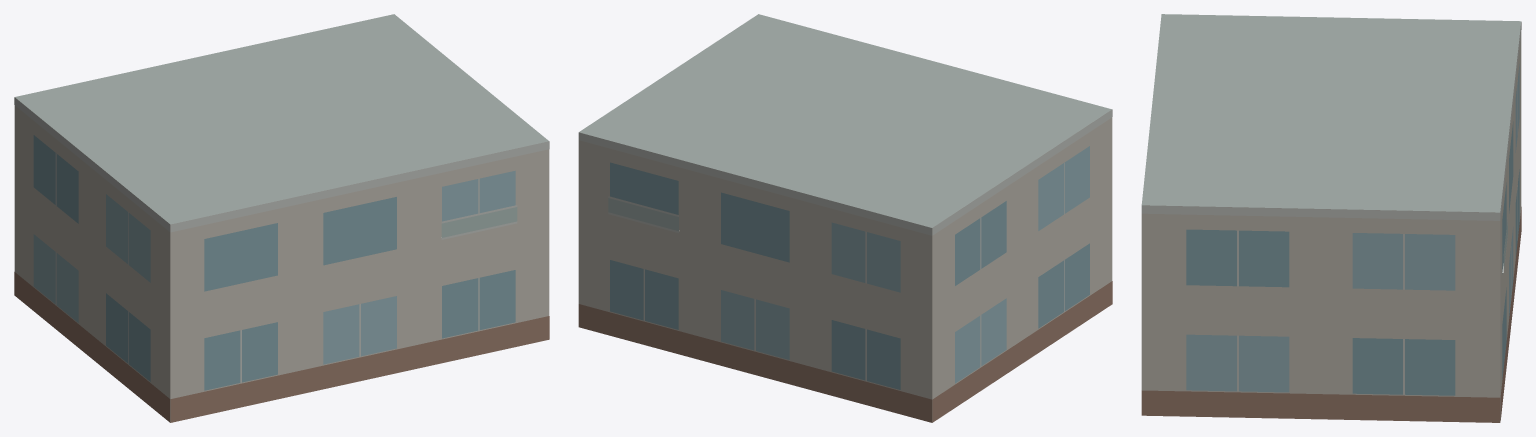
File: survey-upis-32972911.glb
3 views of the same model, side by side, from view 1: azimuth 30°, elevation 25°; view 2: azimuth 150°, elevation 25°; view 3: azimuth 270°, elevation 25° (orthographic). The views are drawn at different scales.
Visible parts, largest first — view 1: survey-upis-32972911.tmp; view 2: survey-upis-32972911.tmp; view 3: survey-upis-32972911.tmp.
Part boxes in pixels (x1,y1,x2,y2): survey-upis-32972911.tmp: [14, 14, 549, 422]; survey-upis-32972911.tmp: [578, 14, 1112, 422]; survey-upis-32972911.tmp: [1141, 14, 1521, 422].
Size of the model in its own units: 12.36 by 6.1 by 9.99.
